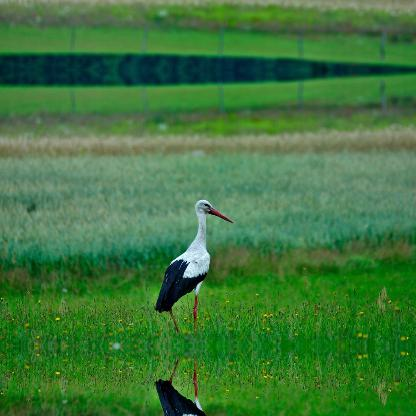Bird: (151, 198, 235, 334), (151, 356, 236, 415)
